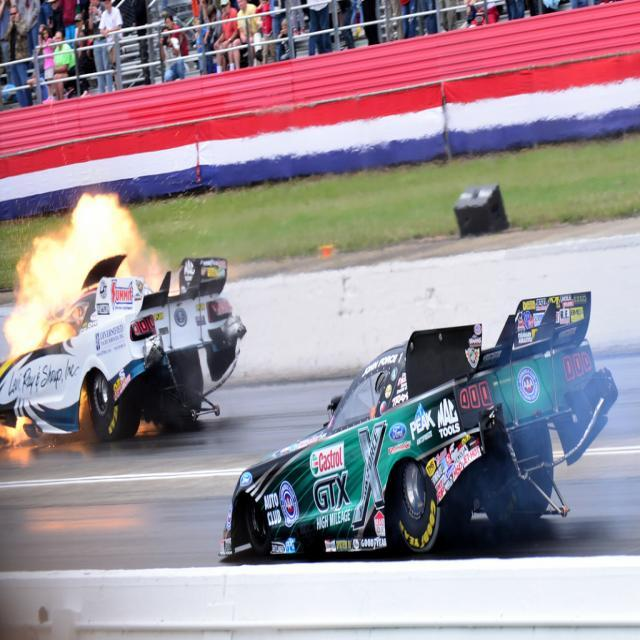Fire: (7, 185, 147, 354), (1, 412, 30, 452)
